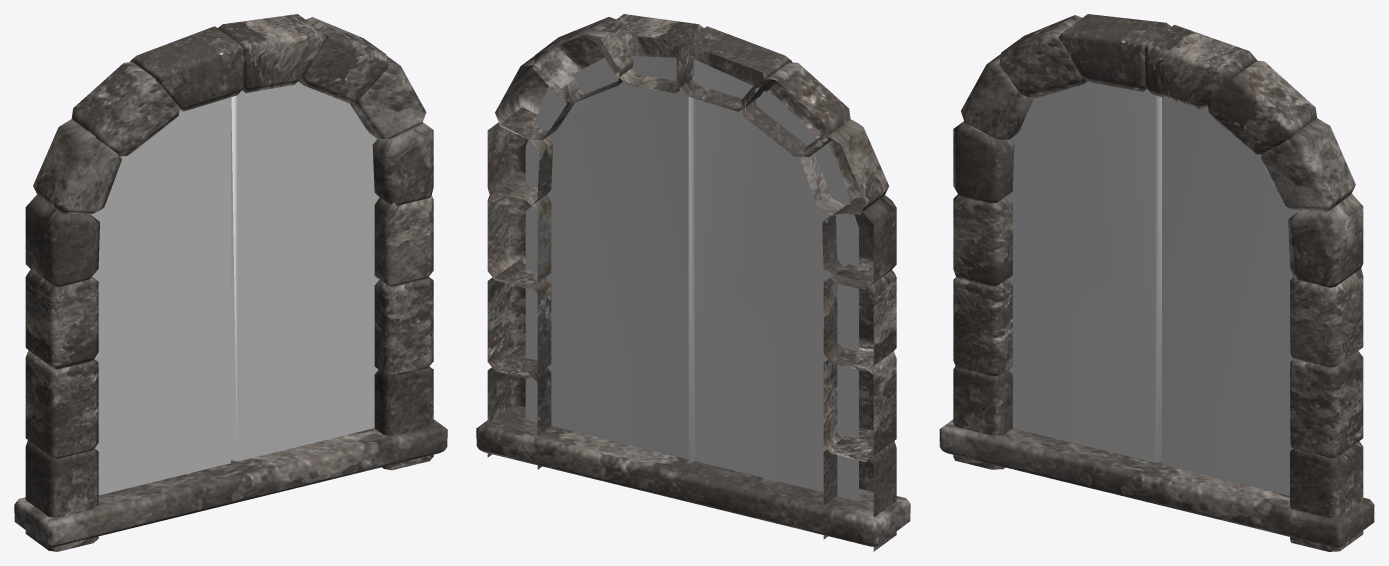
File: DoorStoneLarge.fbx
The picture shows the model from 3 angles, left to right: view 1: azimuth 30°, elevation 25°; view 2: azimuth 150°, elevation 25°; view 3: azimuth 330°, elevation 25°; orthographic projection.
Visible parts, largest first — view 1: Mesh; view 2: Mesh; view 3: Mesh.
Boxes of the visible parts, <box> form: Mesh: <box>14,14,447,551</box>; Mesh: <box>476,14,910,551</box>; Mesh: <box>939,14,1374,551</box>.
Size of the model in its own units: 188 by 207 by 29.53.
